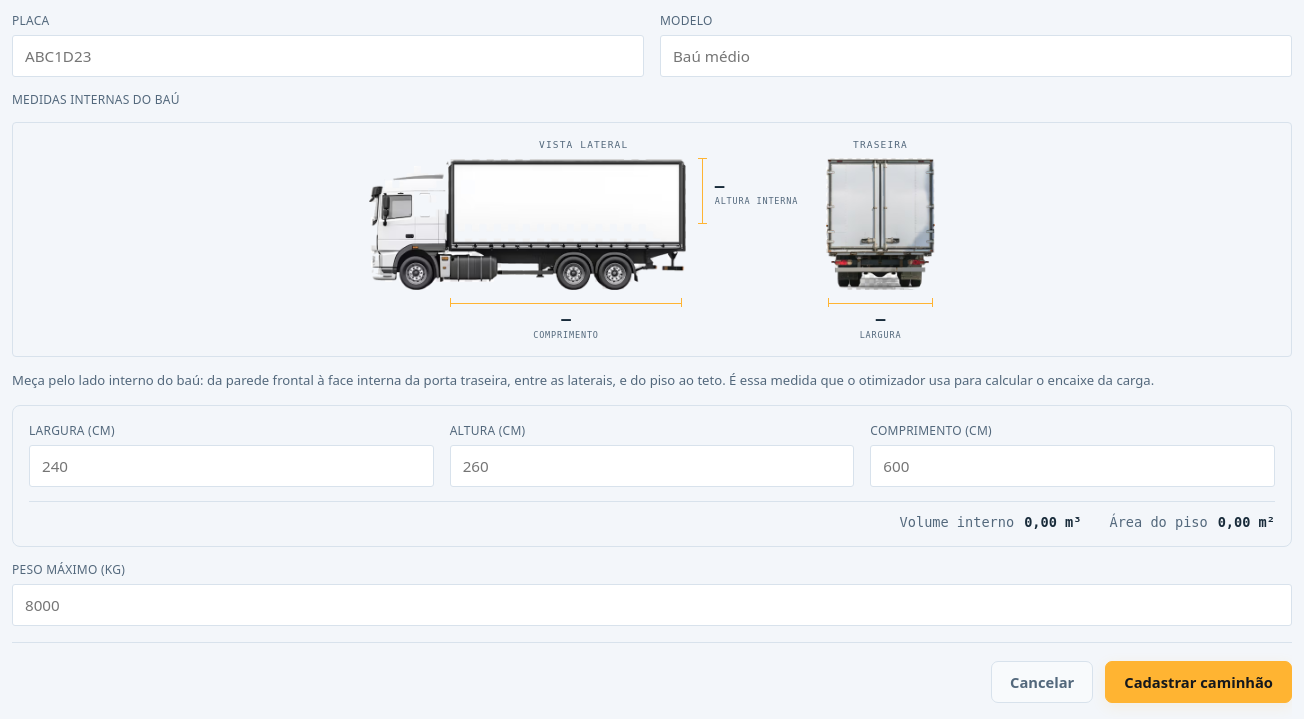
Test case: TruckForm › mostra a mensagem mapeada quando a placa já existe
Type "xyz9k88" into the field labelled "PLACA" at (328, 56), box top-left (12, 35), bottom-right (644, 77)
Type "Baú novo" into the field labelled "MODELO" at (976, 56), box top-left (660, 35), bottom-right (1292, 77)
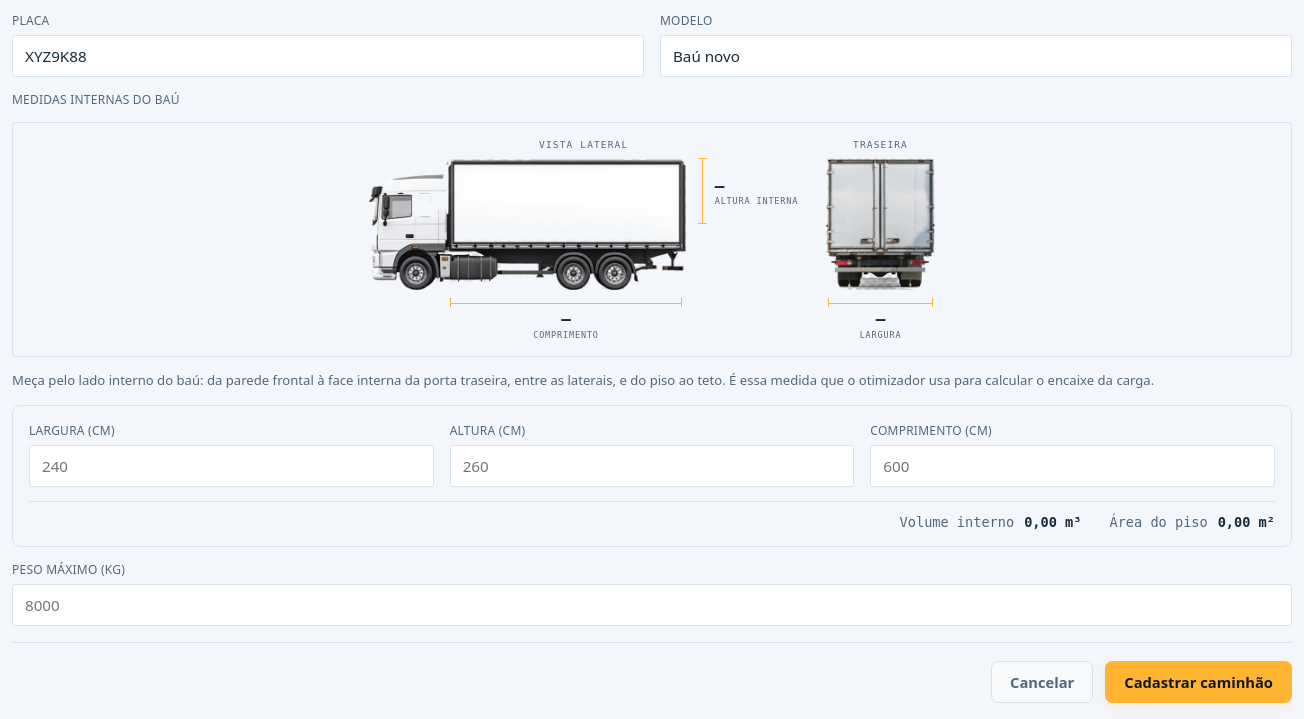
Type "250" into the number field labelled "LARGURA (CM)" at (231, 466), box top-left (29, 445), bottom-right (434, 487)
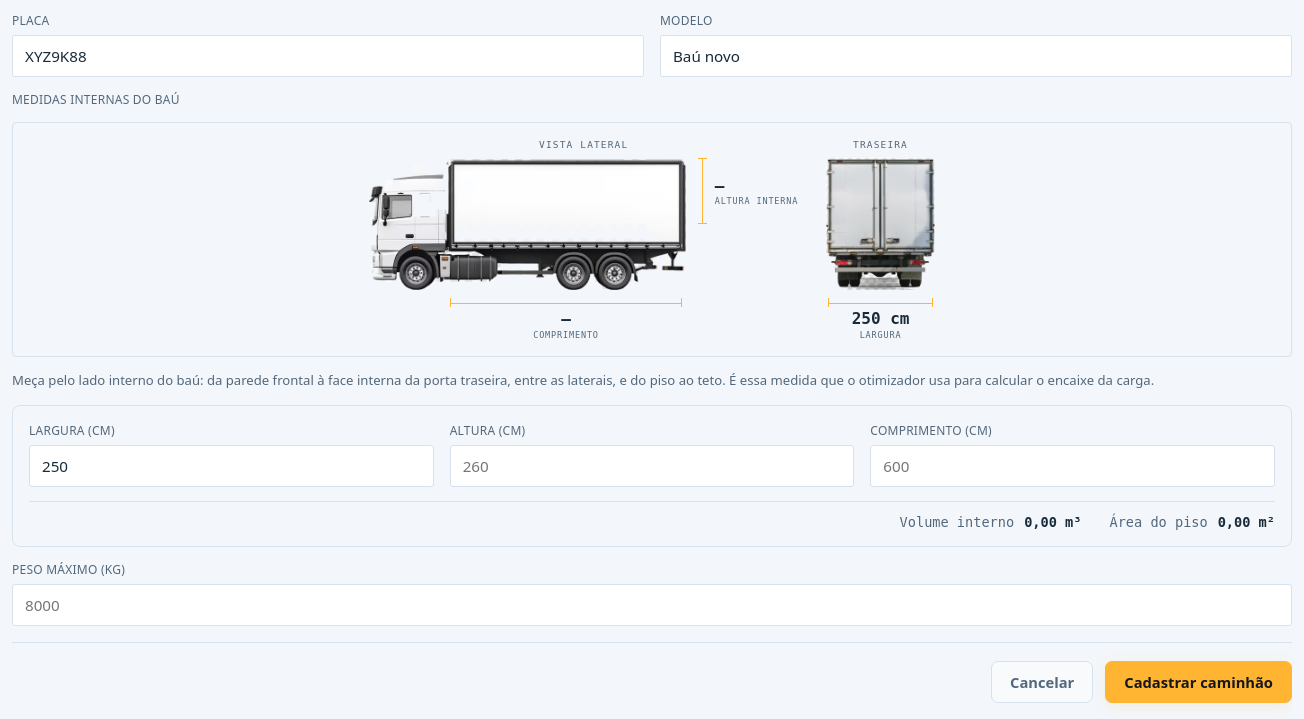
Type "270" into the number field labelled "ALTURA (CM)" at (652, 466), box top-left (450, 445), bottom-right (854, 487)
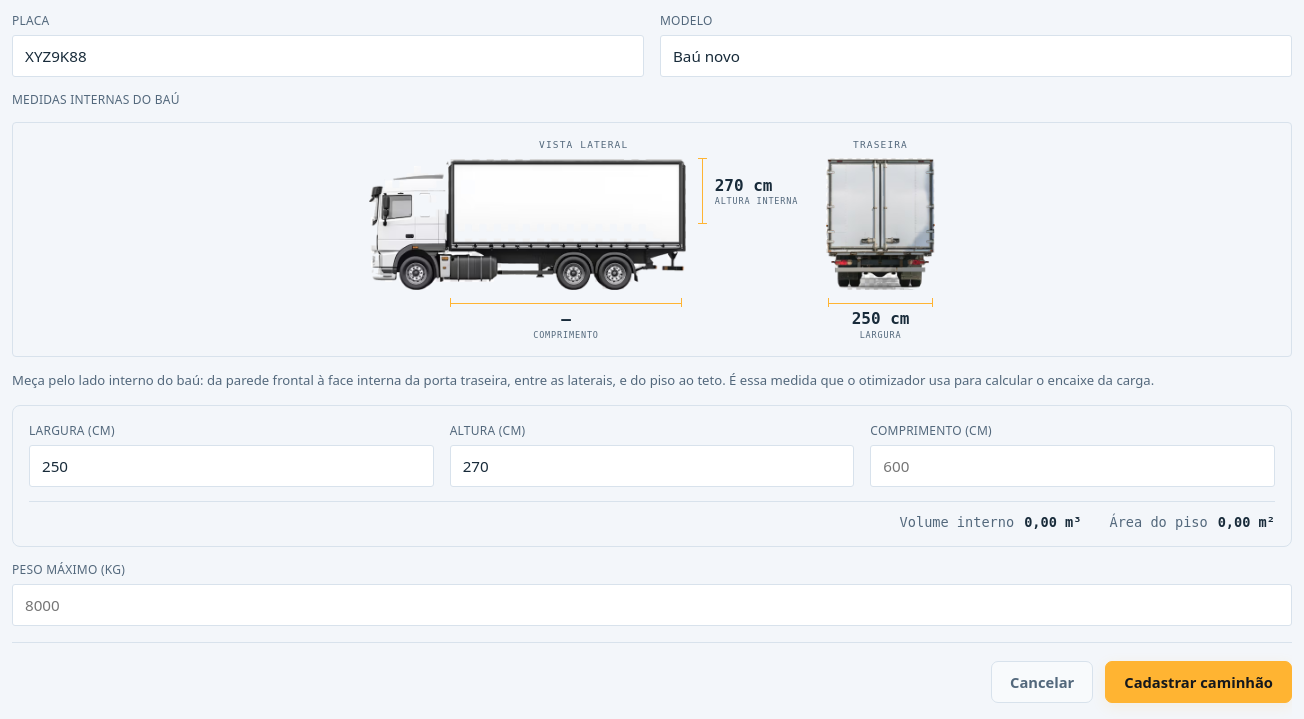
Type "700" into the number field labelled "COMPRIMENTO (CM)" at (1073, 466), box top-left (870, 445), bottom-right (1275, 487)
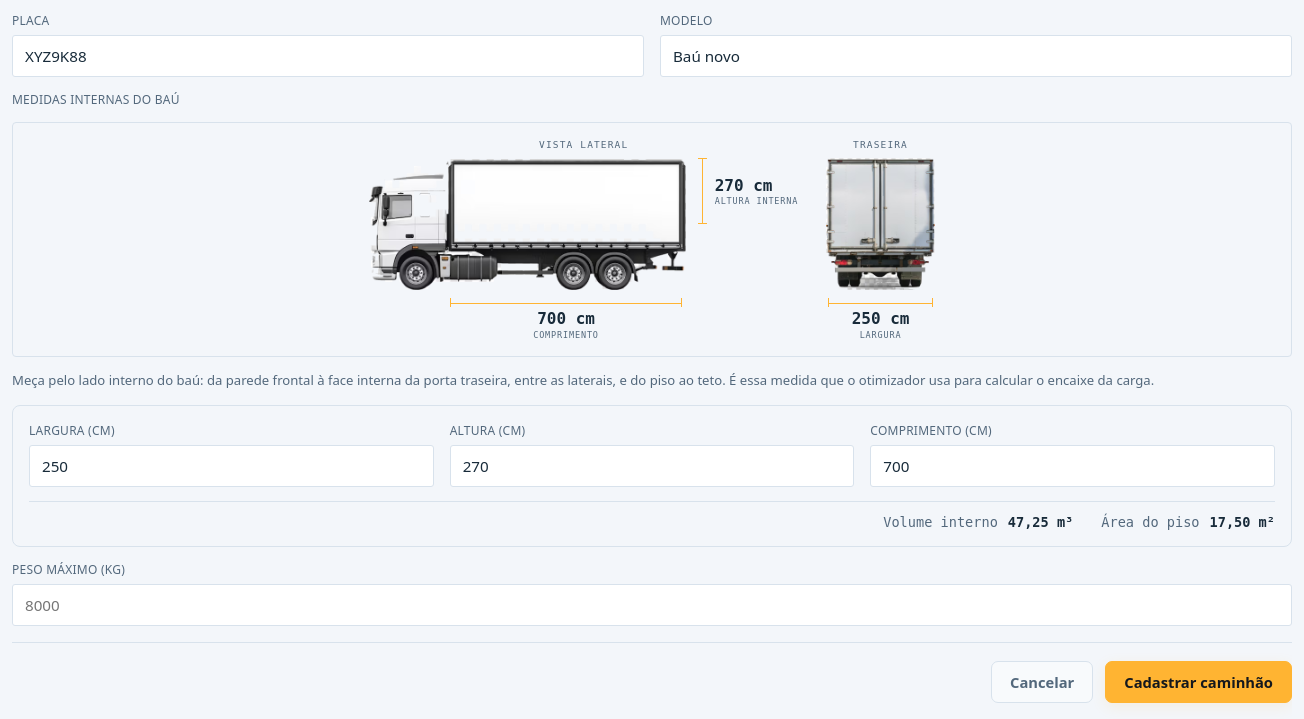
Type "9000" into the number field labelled "PESO MÁXIMO (KG)" at (652, 605), box top-left (12, 584), bottom-right (1292, 626)
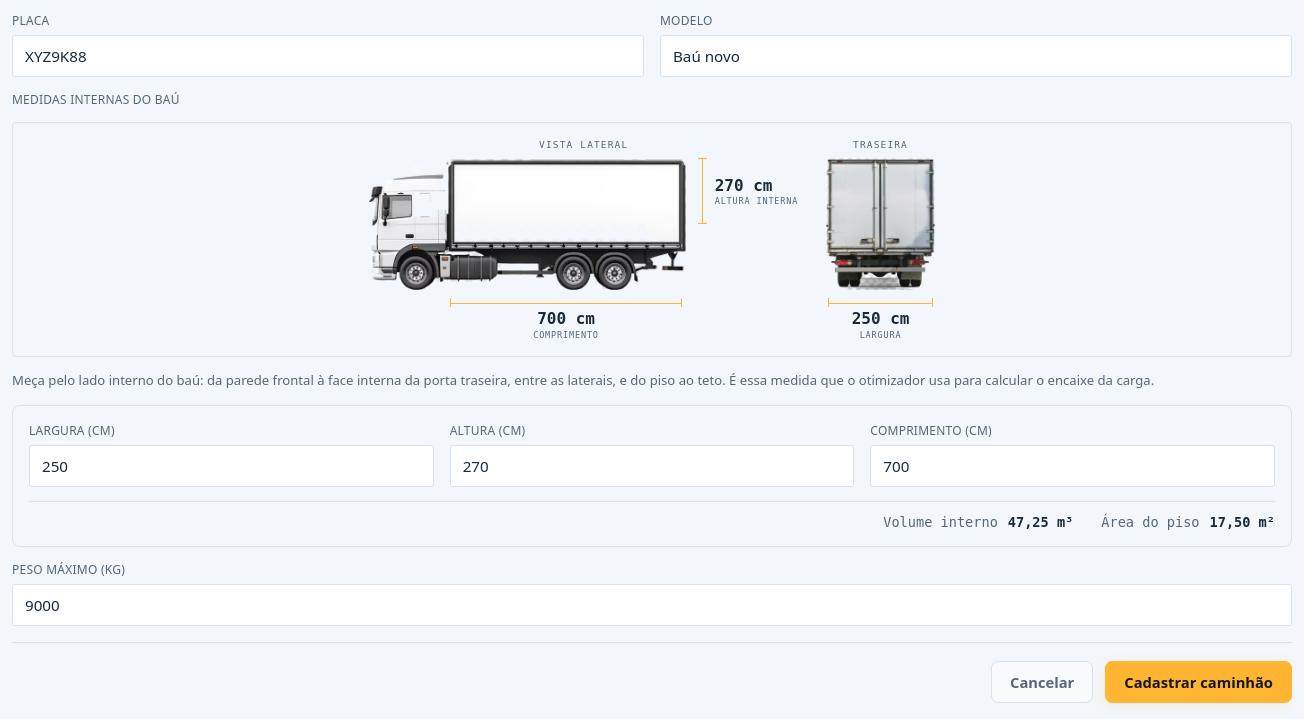
Click the button "Cadastrar caminhão" at (1199, 682), box top-left (1105, 661), bottom-right (1292, 703)
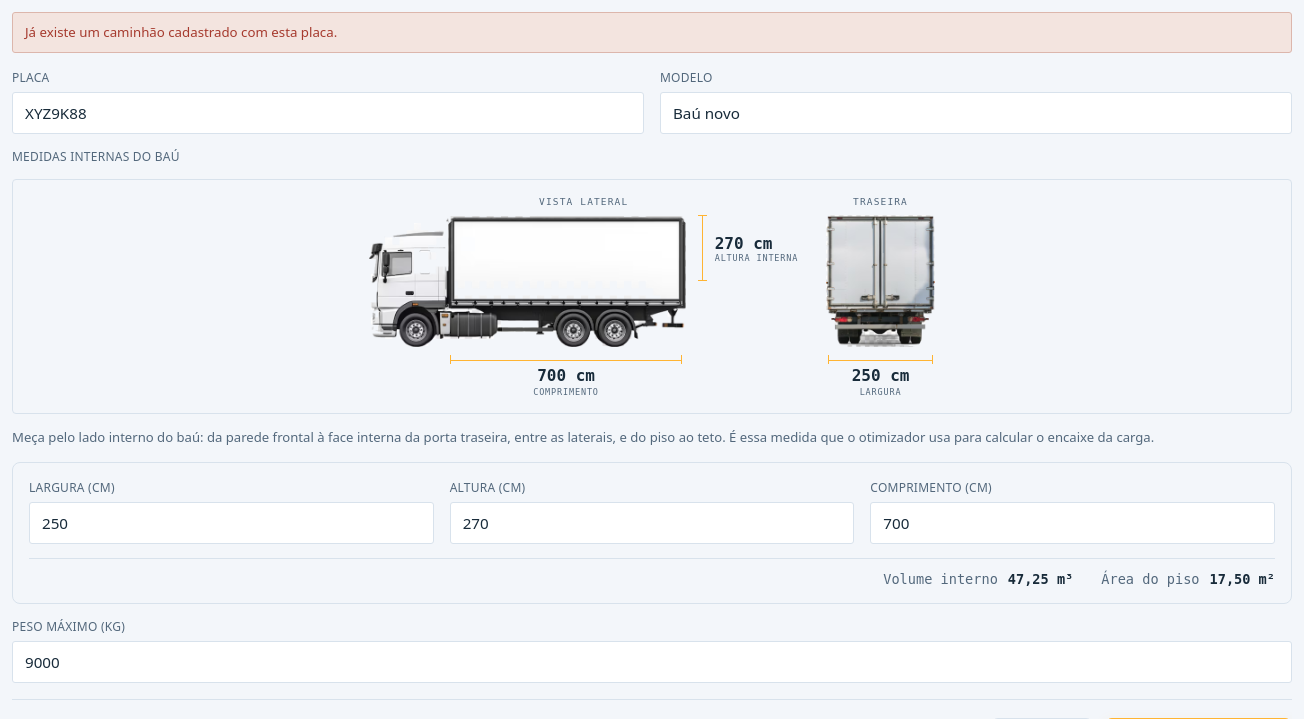
Expected: the message reads "Já existe um caminhão cadastrado com esta placa.", top-left (25, 23), bottom-right (337, 41)
